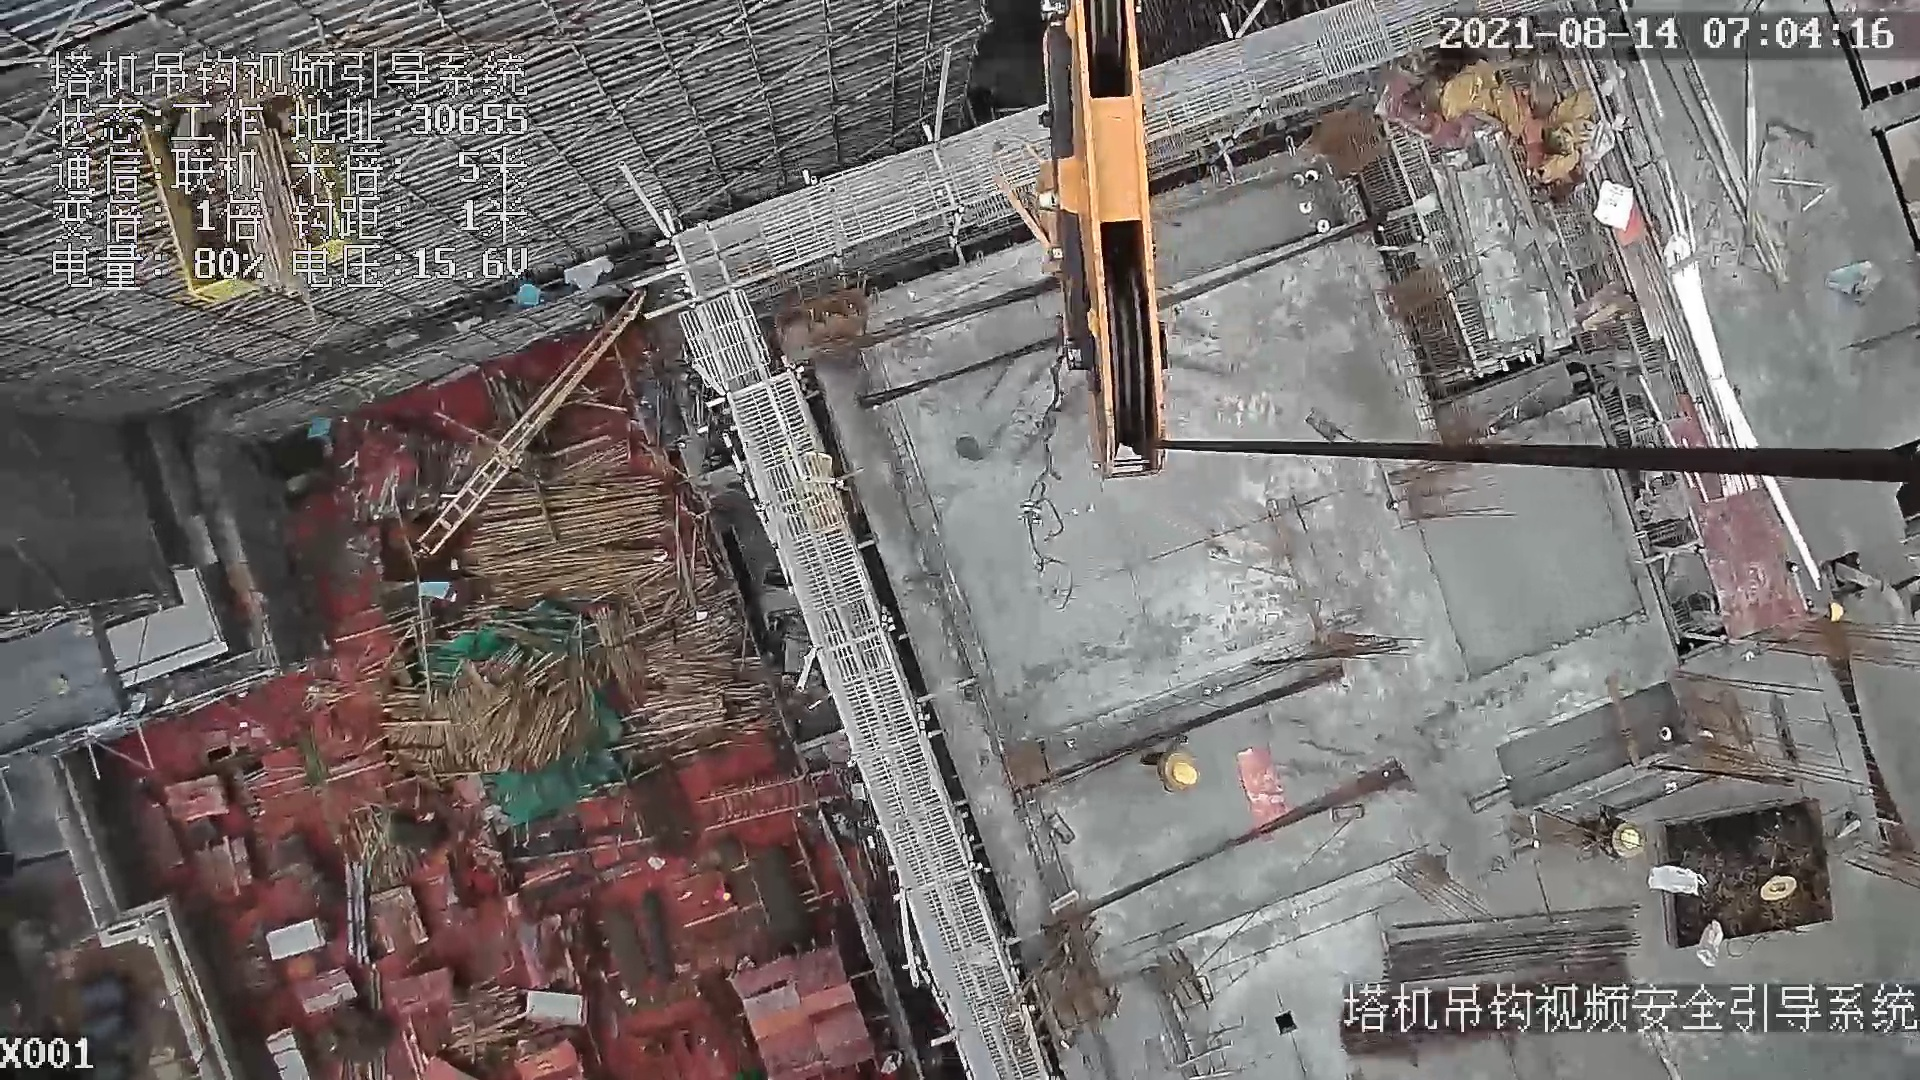hook: (991, 1, 1179, 492)
person: (1586, 802, 1646, 869)
